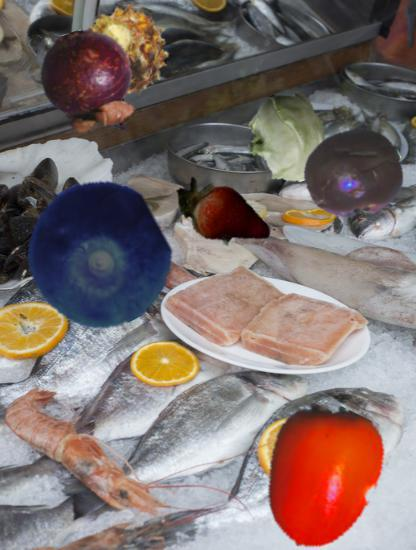Huckleberry: (25, 182, 172, 329)
Kaki: (247, 404, 392, 549)
Kohlrabi: (240, 93, 332, 185)
Mangostan: (33, 29, 146, 142)
Passion: (302, 123, 404, 225)
Pineapple: (80, 4, 175, 99)
Strawberry: (177, 164, 270, 257)
